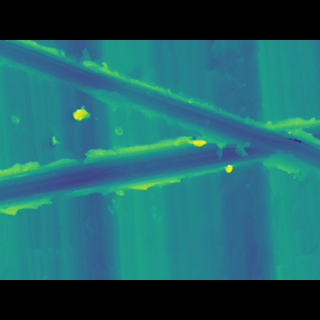Loch: (0, 69, 320, 198)
